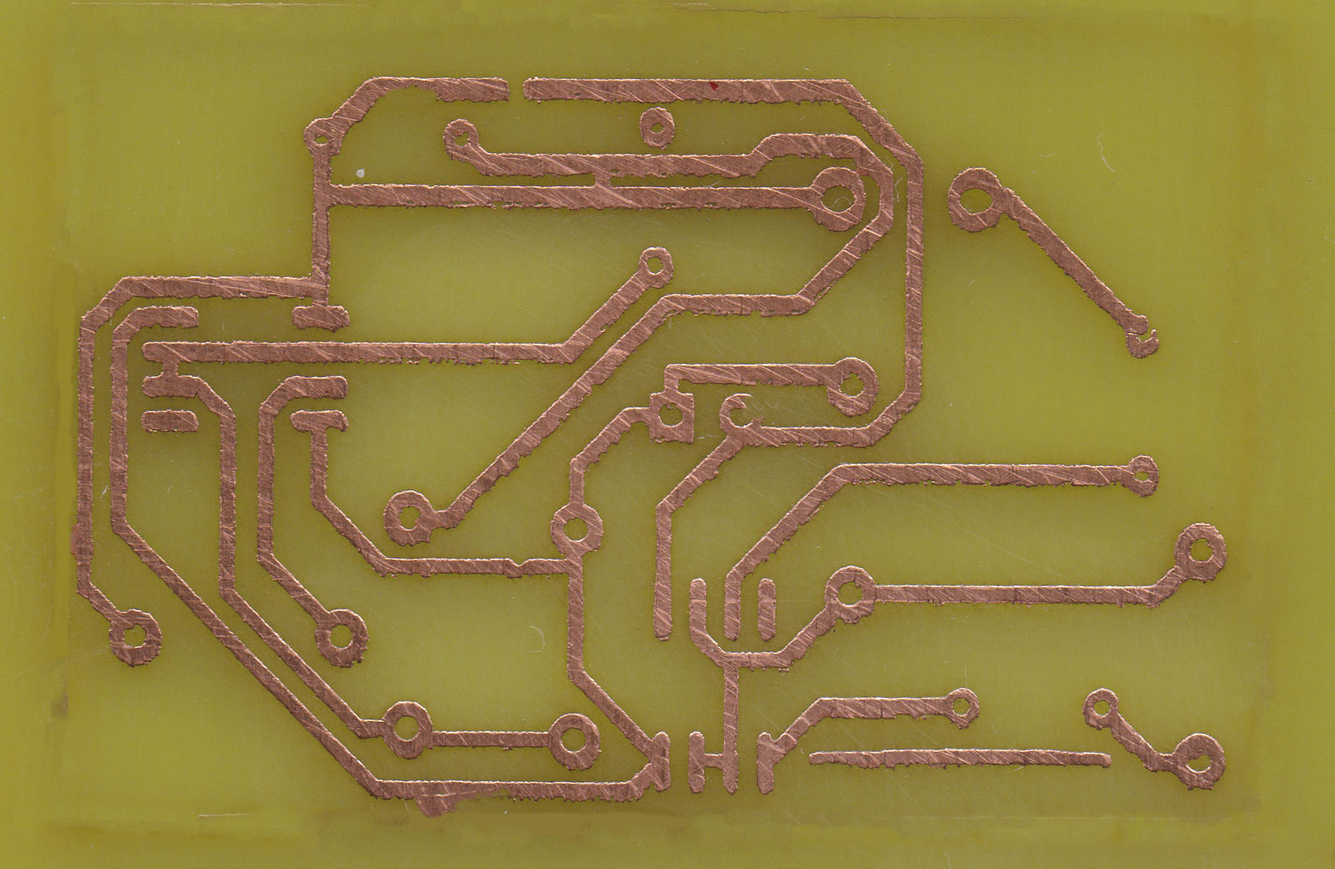missing_hole: (720, 390, 763, 443), (1124, 314, 1160, 358)
mouse_bite: (504, 558, 535, 578)
open_circuit: (497, 74, 535, 102)
short: (582, 149, 627, 212)
spur: (413, 778, 462, 821)
spurious_copper: (808, 745, 1113, 773)
